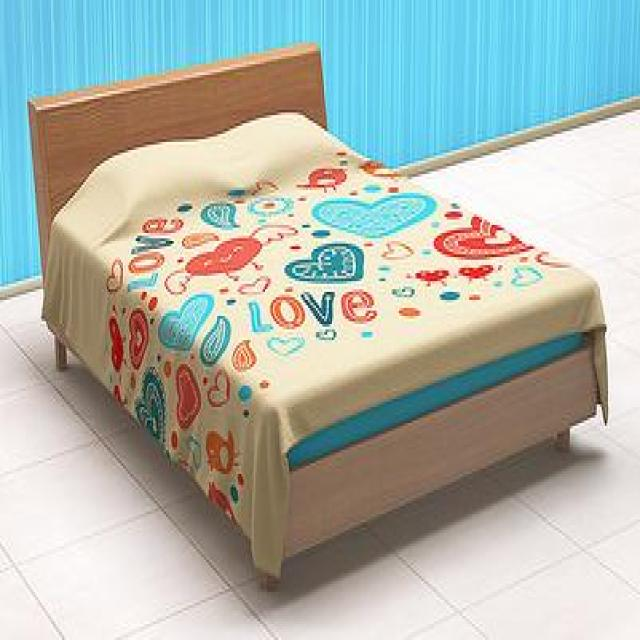bed: (26, 41, 609, 596)
